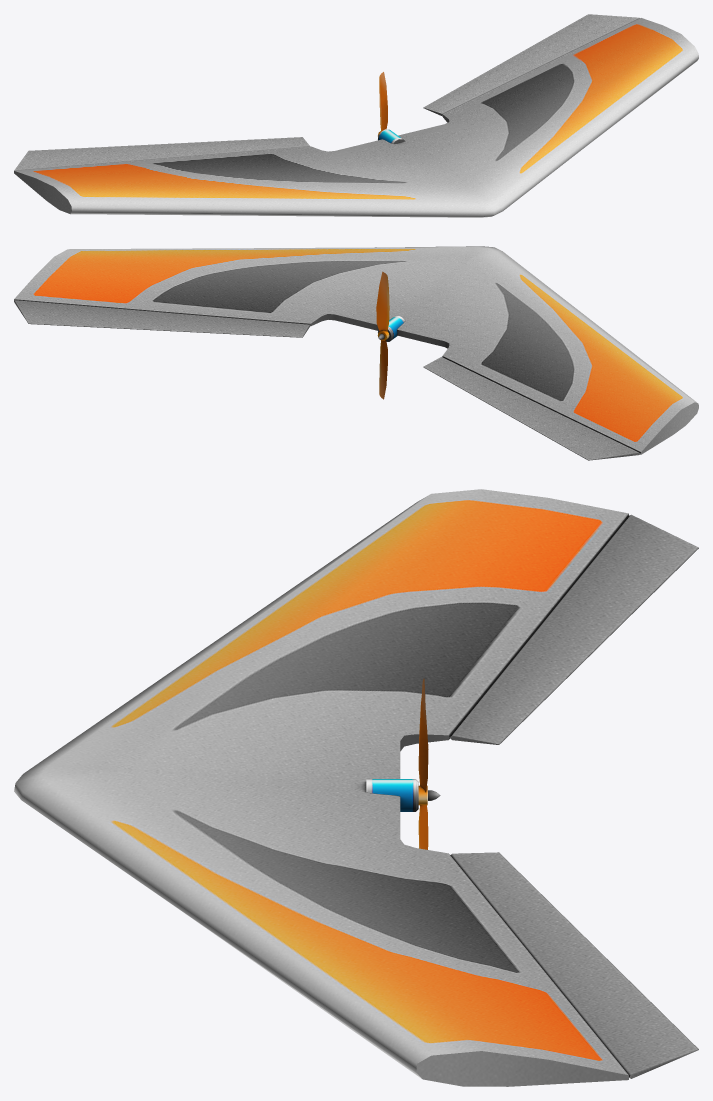
File: wing.dae
3 renders of one model, top to bottom at view 1: azimuth 30°, elevation 25°; view 2: azimuth 150°, elevation 25°; view 3: azimuth 270°, elevation 25°, orthographic. The views are drawn at different scales.
Parts seen in each view (by area): view 1: Wing, Flap_Left, Flap_Right, Propeller; view 2: Wing, Flap_Left, Flap_Right, Propeller; view 3: Wing, Flap_Right, Flap_Left, Propeller.
Part boxes in pixels (<box>): Wing: <box>14,18,698,217</box>; Flap_Left: <box>423,14,639,115</box>; Flap_Right: <box>14,137,309,170</box>; Propeller: <box>378,72,387,137</box>; Wing: <box>14,246,698,454</box>; Flap_Left: <box>14,300,310,337</box>; Flap_Right: <box>423,357,640,460</box>; Propeller: <box>376,271,389,399</box>; Wing: <box>14,489,628,1086</box>; Flap_Right: <box>449,514,698,744</box>; Flap_Left: <box>450,852,698,1078</box>; Propeller: <box>418,678,428,849</box>.
Size of the model in its own units: 1524 by 785 by 297.
